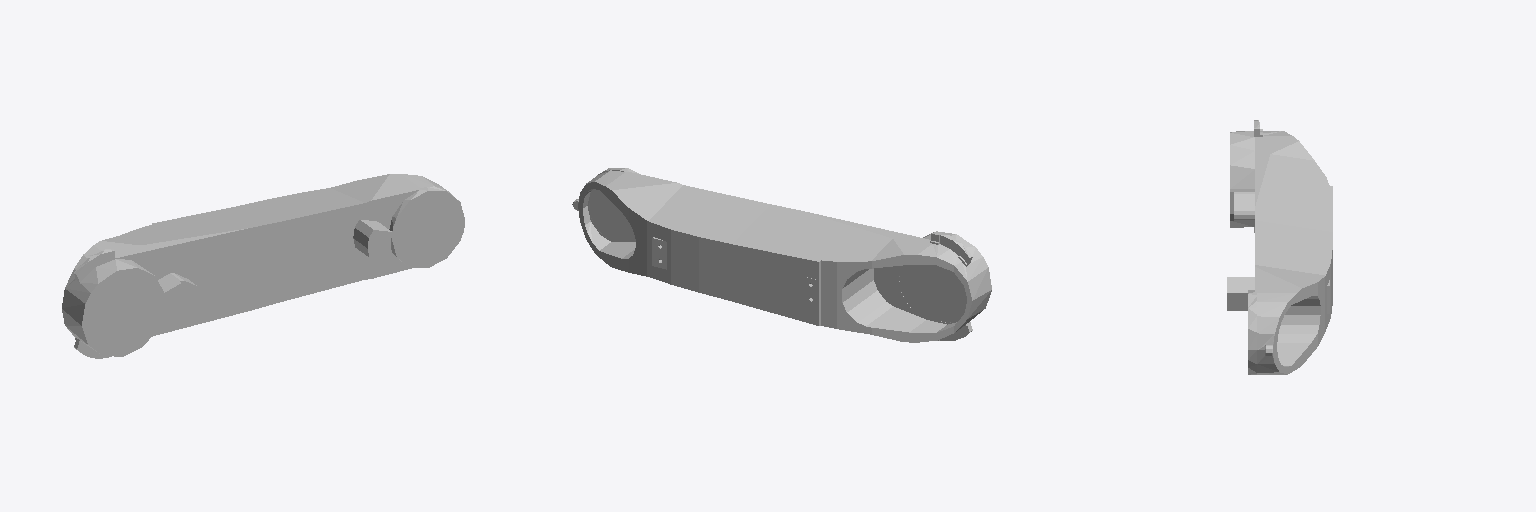
The model's file is kuka_seg_2_.obj.
The picture shows the model from 3 angles: view 1: azimuth 30°, elevation 25°; view 2: azimuth 150°, elevation 25°; view 3: azimuth 270°, elevation 25°; orthographic projection.
Visible parts, largest first — view 1: Kuka_Seg_2_Kuka_Seg_2.001; view 2: Kuka_Seg_2_Kuka_Seg_2.001; view 3: Kuka_Seg_2_Kuka_Seg_2.001.
Boxes of the visible parts, box(x1,y1,x2,y2) form: Kuka_Seg_2_Kuka_Seg_2.001: box(62, 174, 464, 358); Kuka_Seg_2_Kuka_Seg_2.001: box(572, 168, 991, 342); Kuka_Seg_2_Kuka_Seg_2.001: box(1227, 120, 1332, 374).
Bounding box in the file's own units: 34 × 8.64 × 7.85.